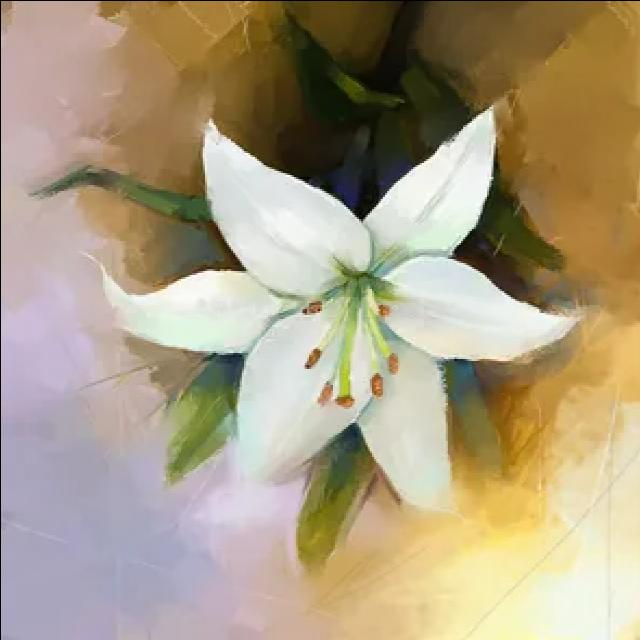lily: (95, 100, 575, 522)
